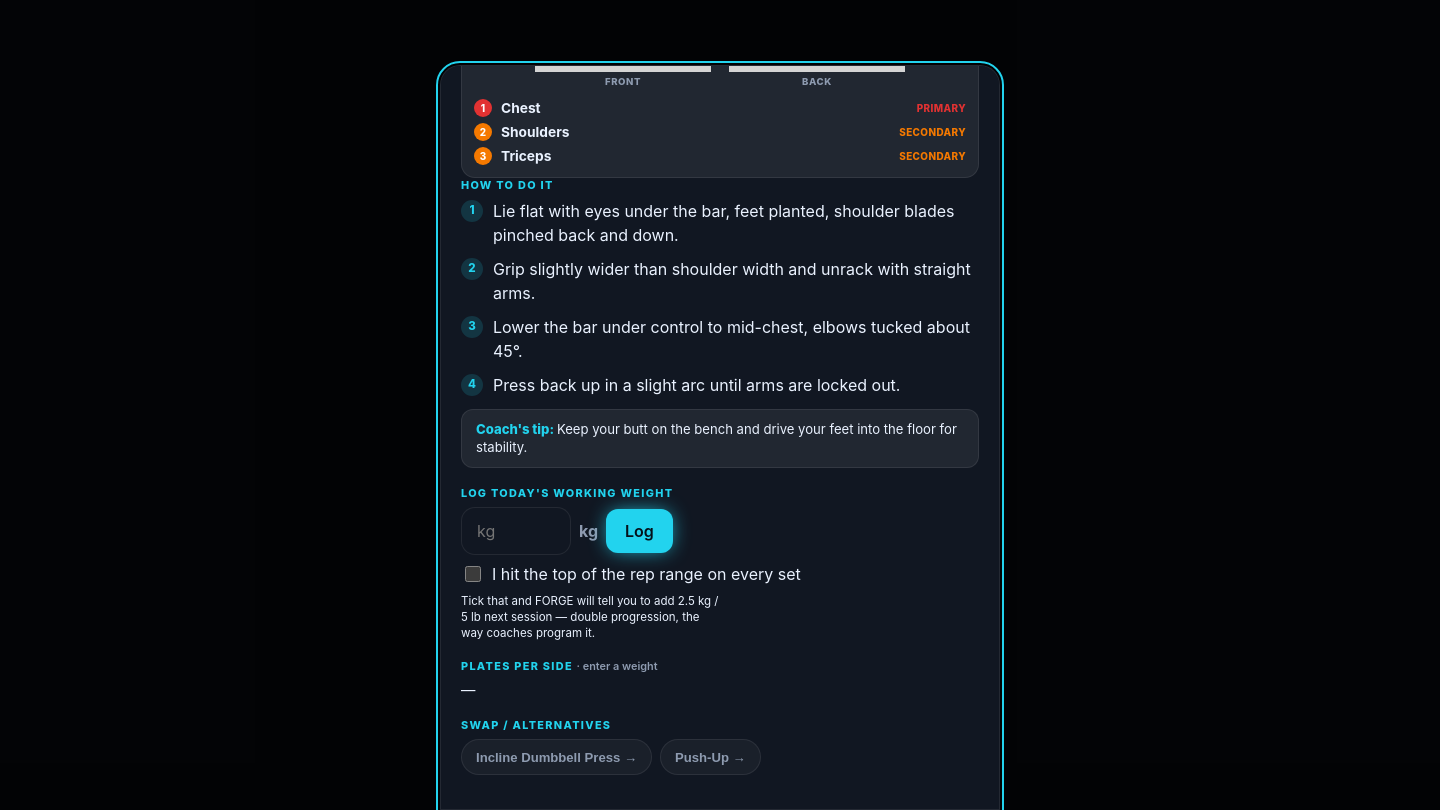
ExerciseModal › shows the plate breakdown for a barbell lift
This screenshot has width=1440, height=810.
(page scrolled)
Type "60" into the number field named "working weight in kg" at (516, 531), box [461,507,571,555]
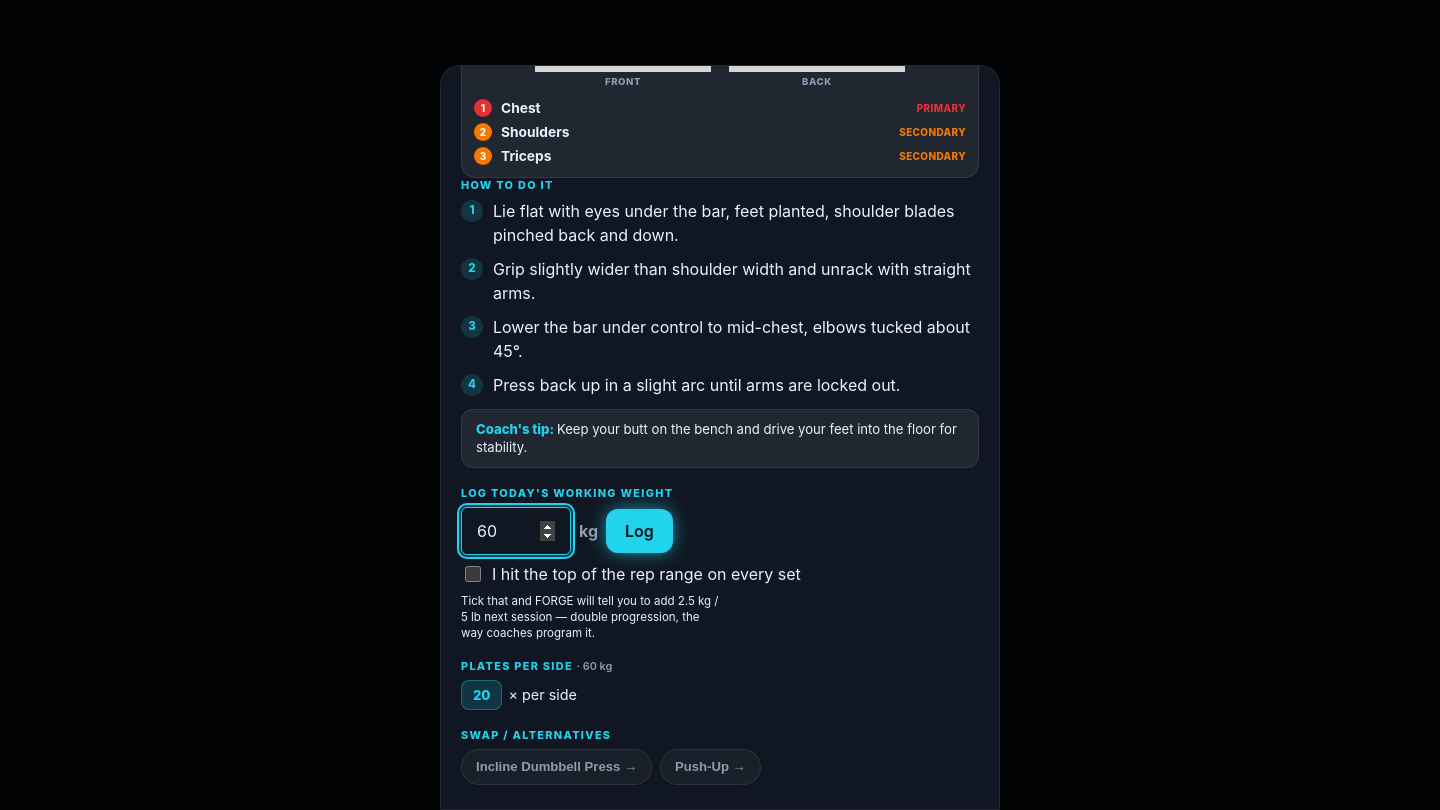
Check: the text "20" is shown, box [461,680,502,710]
